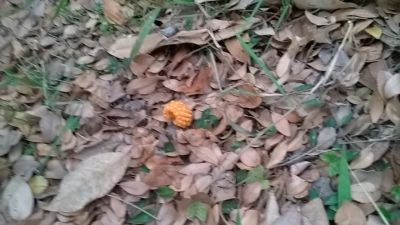eggs: (162, 99, 194, 126)
